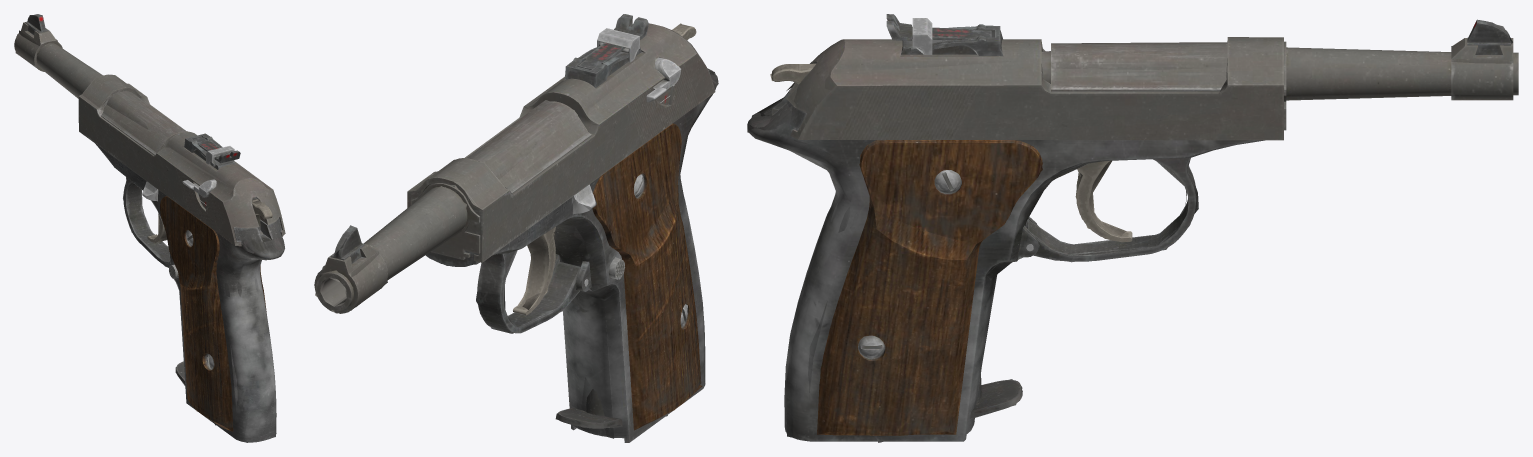
Rendered from pistol_p9.gltf.
The picture shows the model from 3 angles, left to right: view 1: azimuth 30°, elevation 25°; view 2: azimuth 150°, elevation 25°; view 3: azimuth 270°, elevation 25°; orthographic projection. The views are drawn at different scales.
Visible parts, largest first — view 1: Body, LOD, Bolt; view 2: LOD, Body, Bolt, Magazine; view 3: Body, LOD, Bolt, Magazine.
Part boxes in pixels (x1,y1,x2,y2): Body: [14, 14, 284, 442]; LOD: [15, 15, 285, 442]; Bolt: [79, 74, 284, 245]; LOD: [314, 14, 718, 442]; Body: [314, 68, 718, 442]; Bolt: [407, 14, 715, 262]; Magazine: [558, 389, 667, 428]; Body: [747, 19, 1518, 441]; LOD: [747, 14, 1518, 441]; Bolt: [771, 14, 1283, 140]; Magazine: [878, 374, 1022, 442].
Bounding box in the file's own units: 0.0322 × 0.1315 × 0.222.
Materials: 1 (1 with a texture image).
